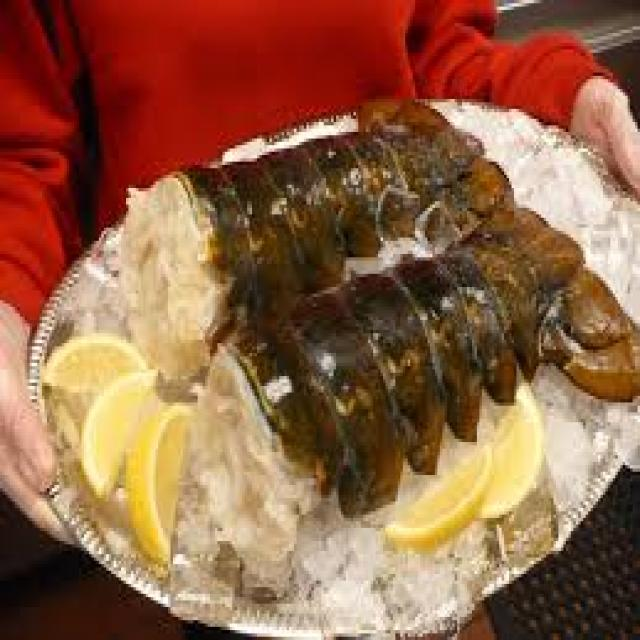lemon: (128, 406, 186, 559), (394, 464, 486, 550), (78, 381, 130, 501)
lobster tail: (229, 239, 640, 457), (134, 107, 468, 270)
